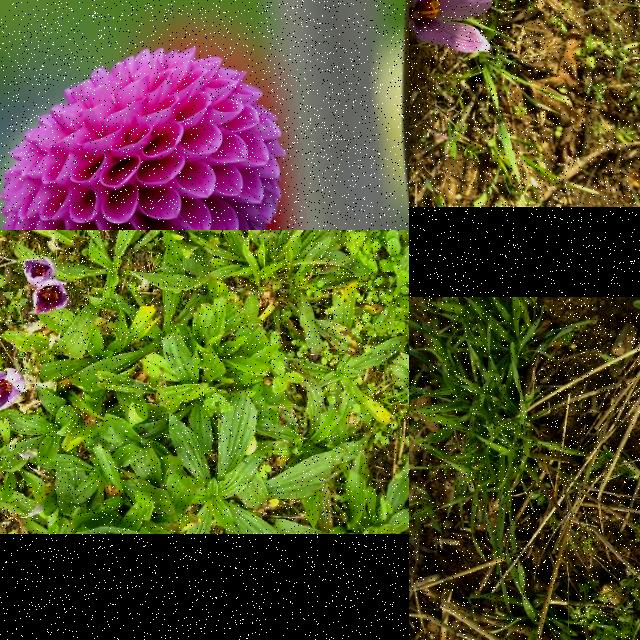flower: (409, 0, 492, 53), (30, 280, 70, 314), (0, 368, 27, 411), (24, 256, 56, 286)
